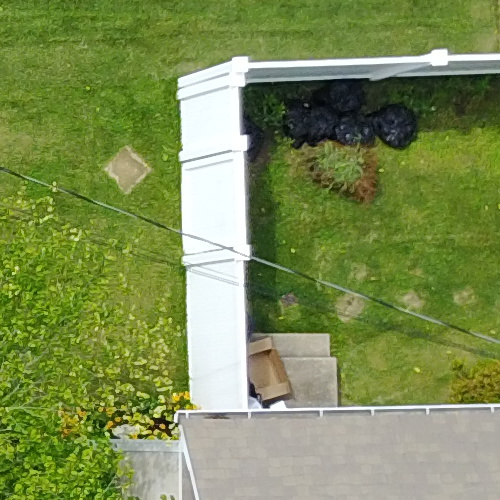trash: (366, 99, 424, 160), (281, 94, 341, 148), (330, 103, 382, 153), (317, 73, 377, 116)
